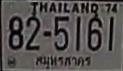1: (108, 16, 114, 50), (76, 15, 81, 50)
2: (26, 14, 39, 50)
5: (54, 15, 68, 50)
6: (87, 16, 101, 50)
8: (8, 15, 22, 49)
SKN: (34, 53, 93, 70)
